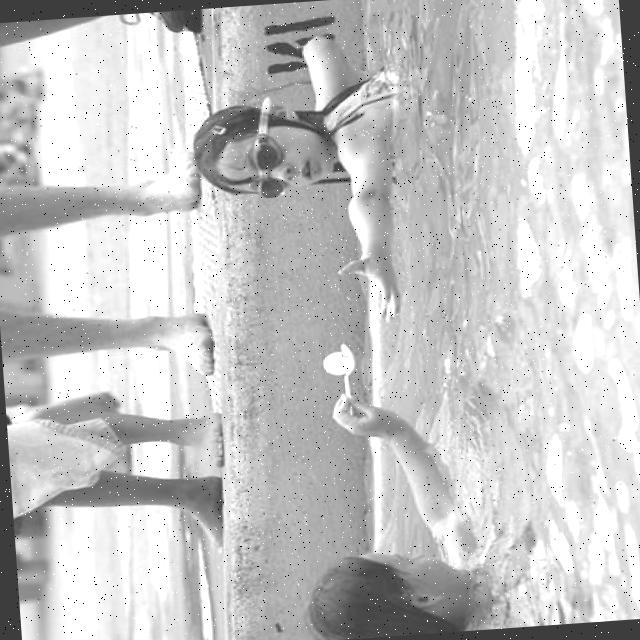ping-pong-ball: (320, 348, 354, 374)
